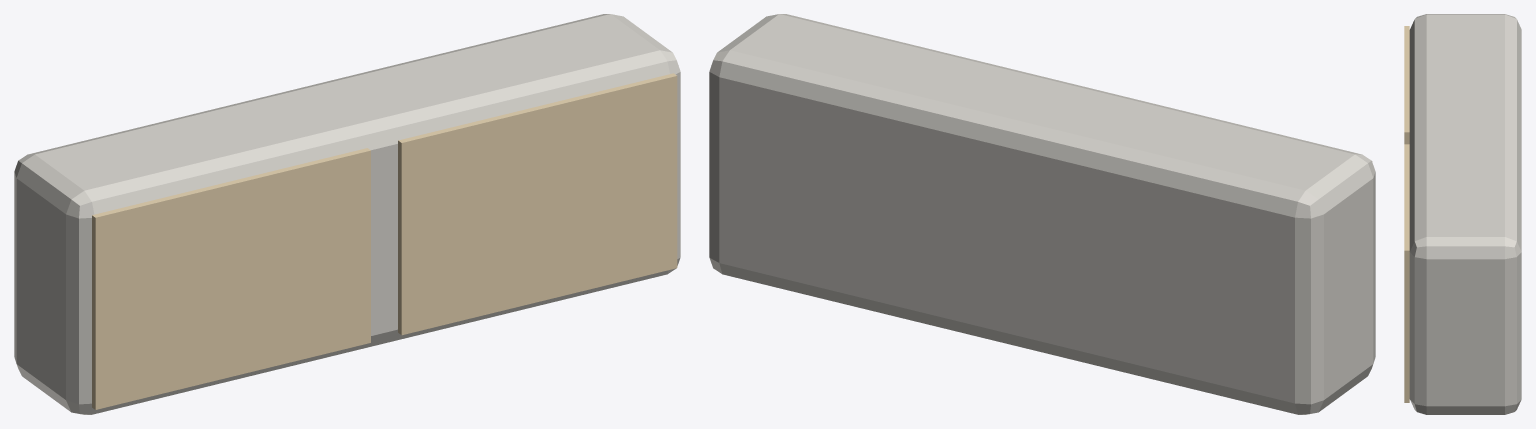
Rendered from Kitchen_UpperCabinet.fbx.
3 renders of one model, left to right at view 1: azimuth 30°, elevation 25°; view 2: azimuth 150°, elevation 25°; view 3: azimuth 270°, elevation 25°, orthographic. The views are drawn at different scales.
Parts seen in each view (by area): view 1: UpperCabinet; view 2: UpperCabinet; view 3: UpperCabinet.
Part boxes in pixels (bbox=[...]): UpperCabinet: bbox=[14, 14, 680, 414]; UpperCabinet: bbox=[709, 14, 1375, 414]; UpperCabinet: bbox=[1404, 14, 1521, 414].
Size of the model in its own units: 2 by 0.7 by 0.42.
